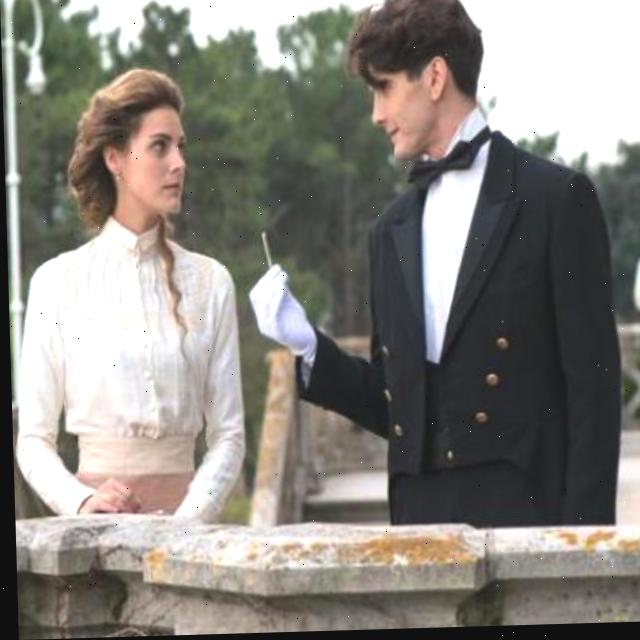cigarette: (257, 232, 273, 272)
